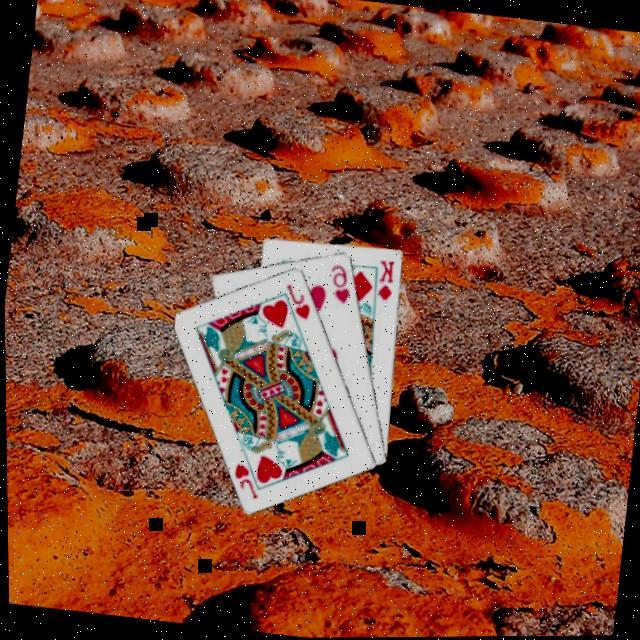6H: (326, 259, 358, 306)
JH: (279, 279, 317, 323), (227, 458, 265, 502)
KD: (373, 256, 400, 304)
